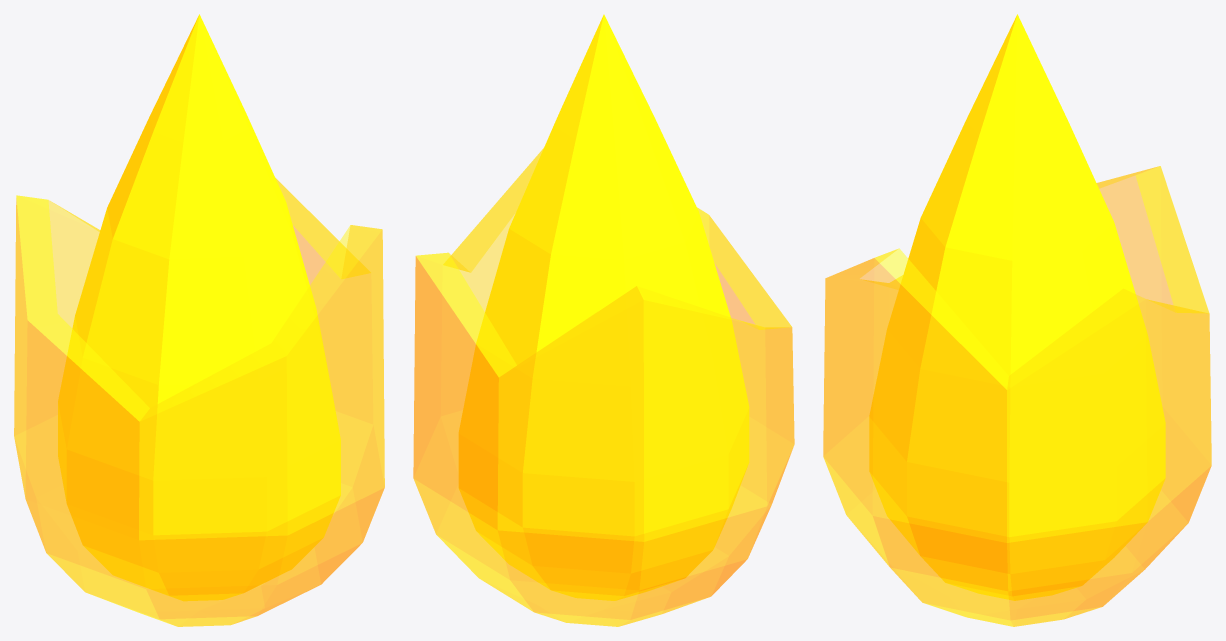
Rendered from FireballExp.fbx.
The picture shows the model from 3 angles, left to right: view 1: azimuth 30°, elevation 25°; view 2: azimuth 150°, elevation 25°; view 3: azimuth 270°, elevation 25°; orthographic projection.
Visible parts, largest first — view 1: pSphere3; view 2: pSphere3; view 3: pSphere3.
Part boxes in pixels (x1,y1,x2,y2): pSphere3: (14,14,384,626); pSphere3: (413,14,794,626); pSphere3: (823,14,1211,626).
Size of the model in its own units: 49.74 by 84.05 by 49.74.
